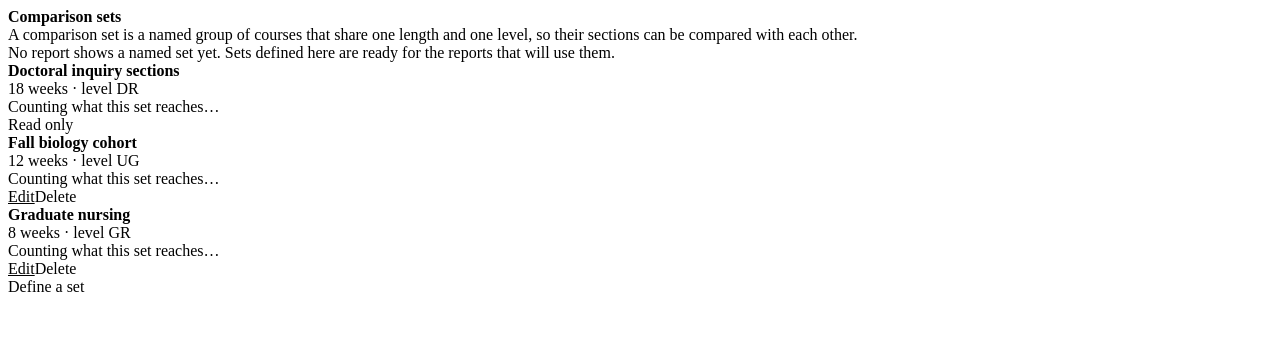
deleting a set › asks first, naming the set and what will change
Check: the list with test id "pulse-leadership-set-list" is shown, box [8, 62, 220, 278]
Click the button "Delete" below "Fall biology cohort".
click(56, 197)  # box [35, 188, 76, 206]
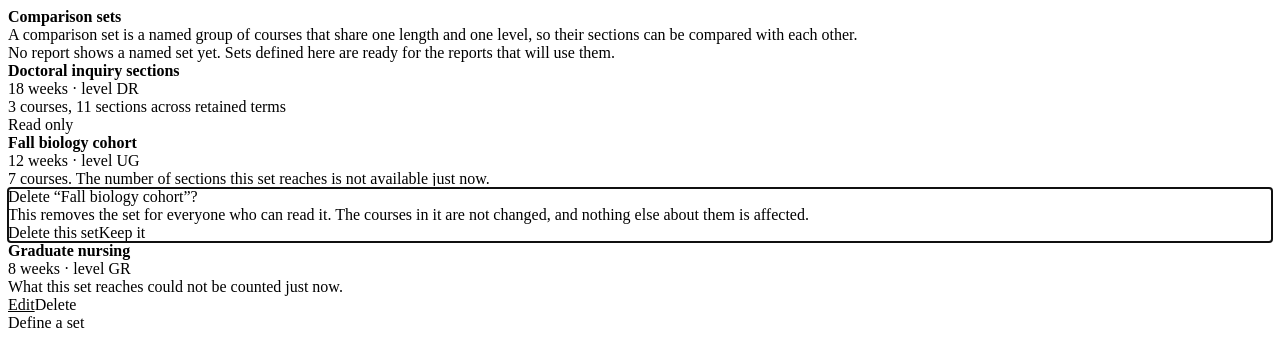
Check: the text "This removes the set for everyone who can read it. The courses in it are not changed, and nothing else about them is aff" is shown, box [8, 206, 809, 223]
